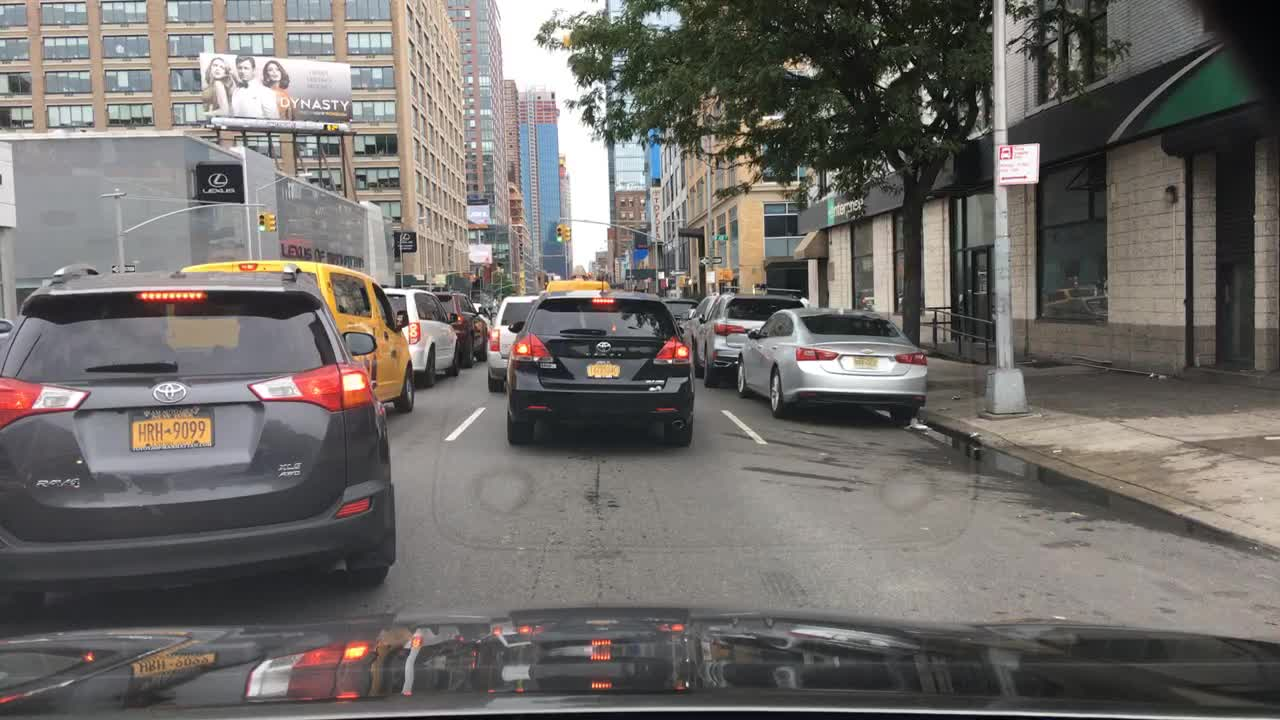car: (0, 259, 395, 614), (167, 258, 418, 415), (503, 290, 695, 448), (732, 303, 931, 426), (692, 281, 806, 388), (381, 283, 460, 393), (487, 288, 543, 391), (435, 286, 489, 369), (685, 290, 720, 377), (536, 273, 607, 300), (658, 296, 697, 344), (467, 303, 489, 357)
traffic light: (550, 224, 570, 244), (266, 207, 278, 236), (714, 264, 734, 281), (253, 212, 268, 232), (494, 259, 503, 275)
traffic sign: (993, 145, 1039, 183), (710, 227, 735, 242), (700, 253, 724, 263)
truck: (0, 124, 388, 357)
